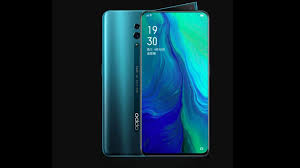oppo: (97, 6, 212, 158)
